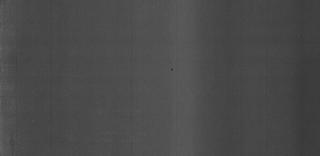silk spot: (168, 60, 178, 72)
water spot: (6, 129, 20, 155)
